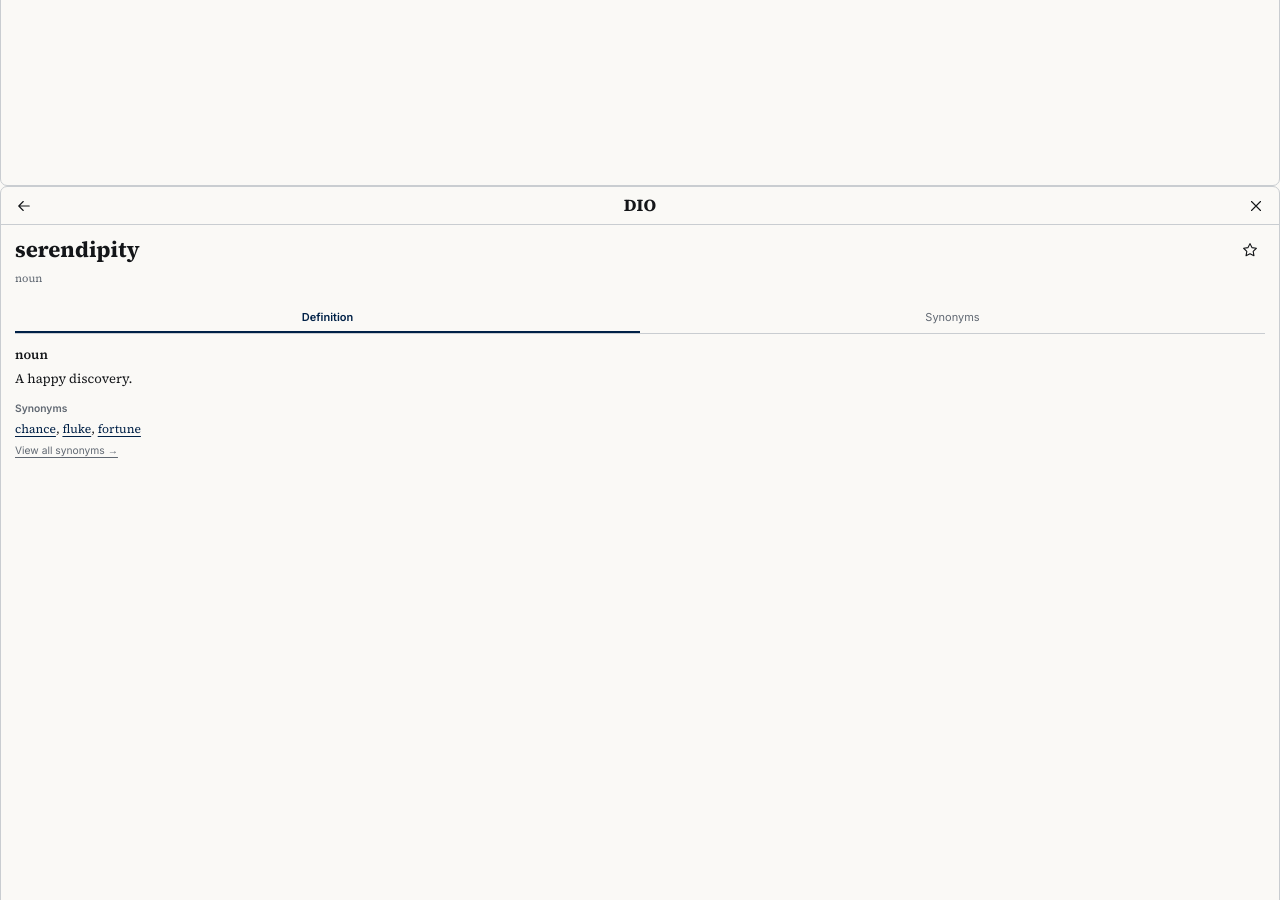
Test: popup › shows synonyms of the shown sense under the definition
(page scrolled)
Expected: the button "luck" is not shown
Click the button "View all synonyms →": [66, 451] box [15,443,118,458]
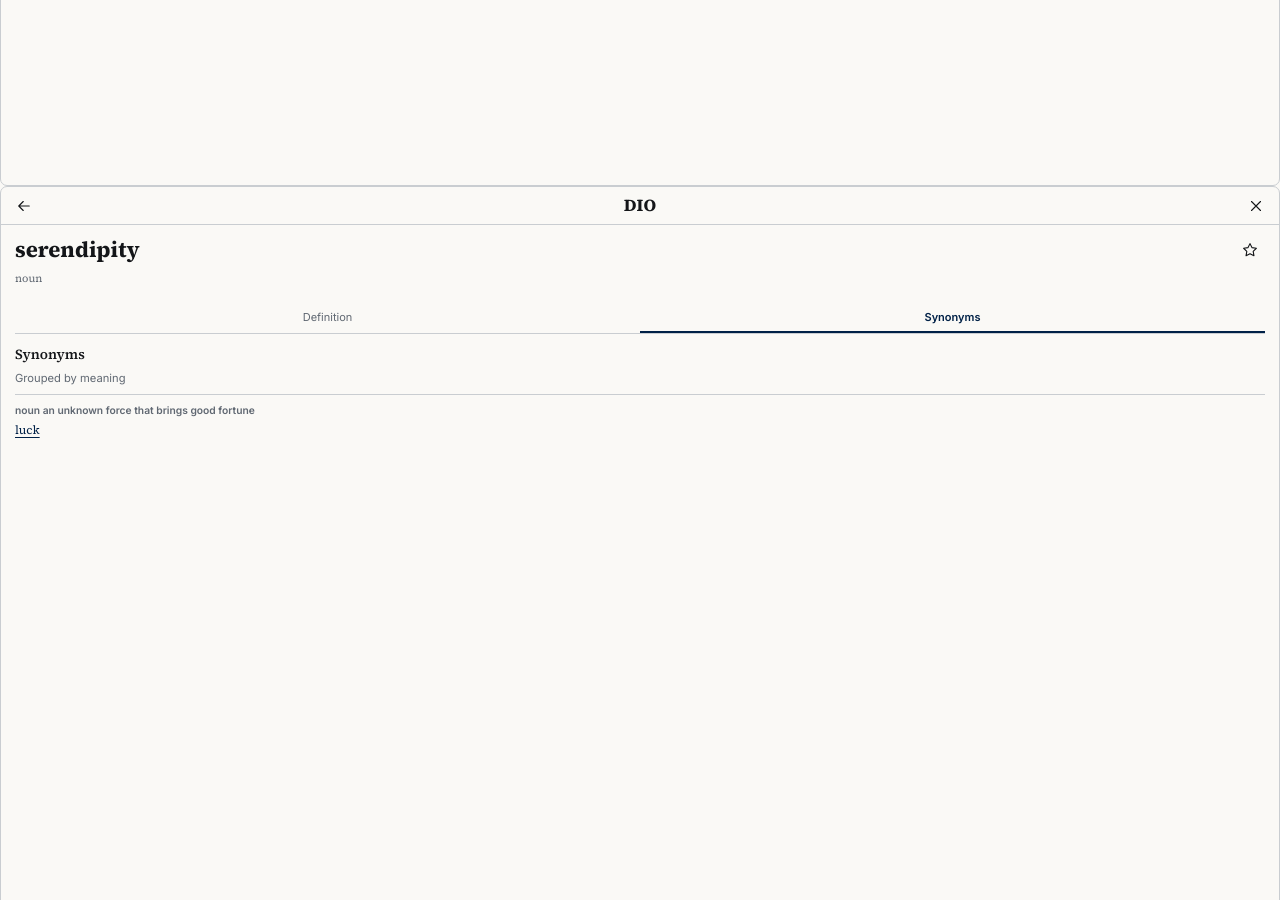
Now the button "luck" is shown, box [15,422,40,439]
